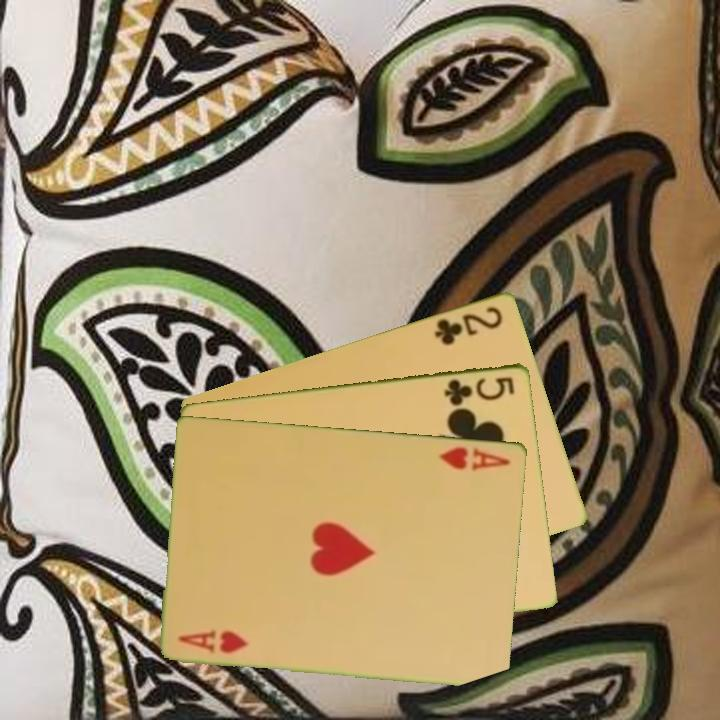2c: (431, 302, 506, 348)
5c: (441, 372, 518, 408)
Ah: (436, 443, 514, 473), (175, 627, 253, 656)
